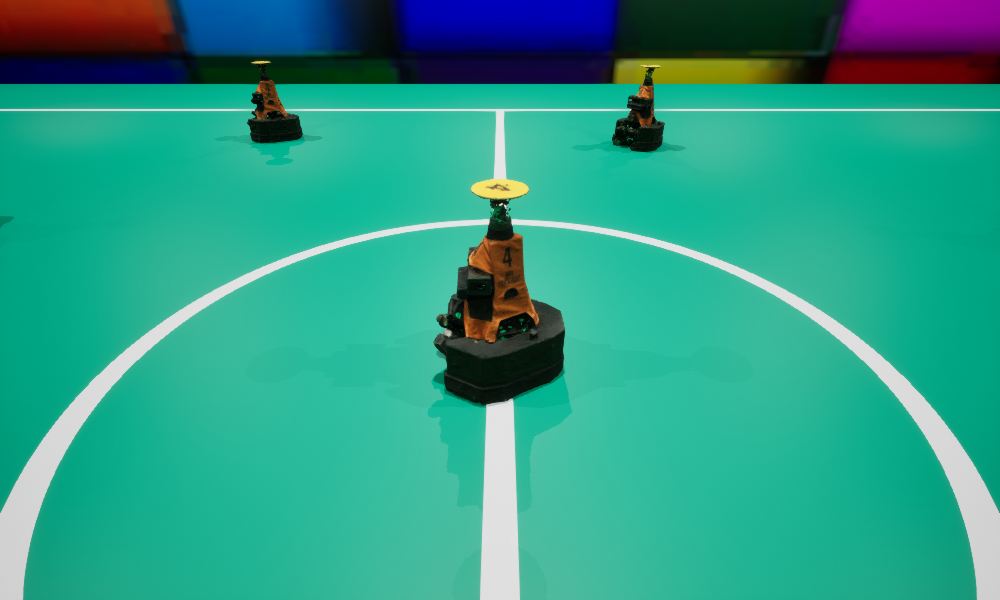o: (433, 179, 564, 404), (247, 61, 302, 142), (612, 65, 664, 150)
